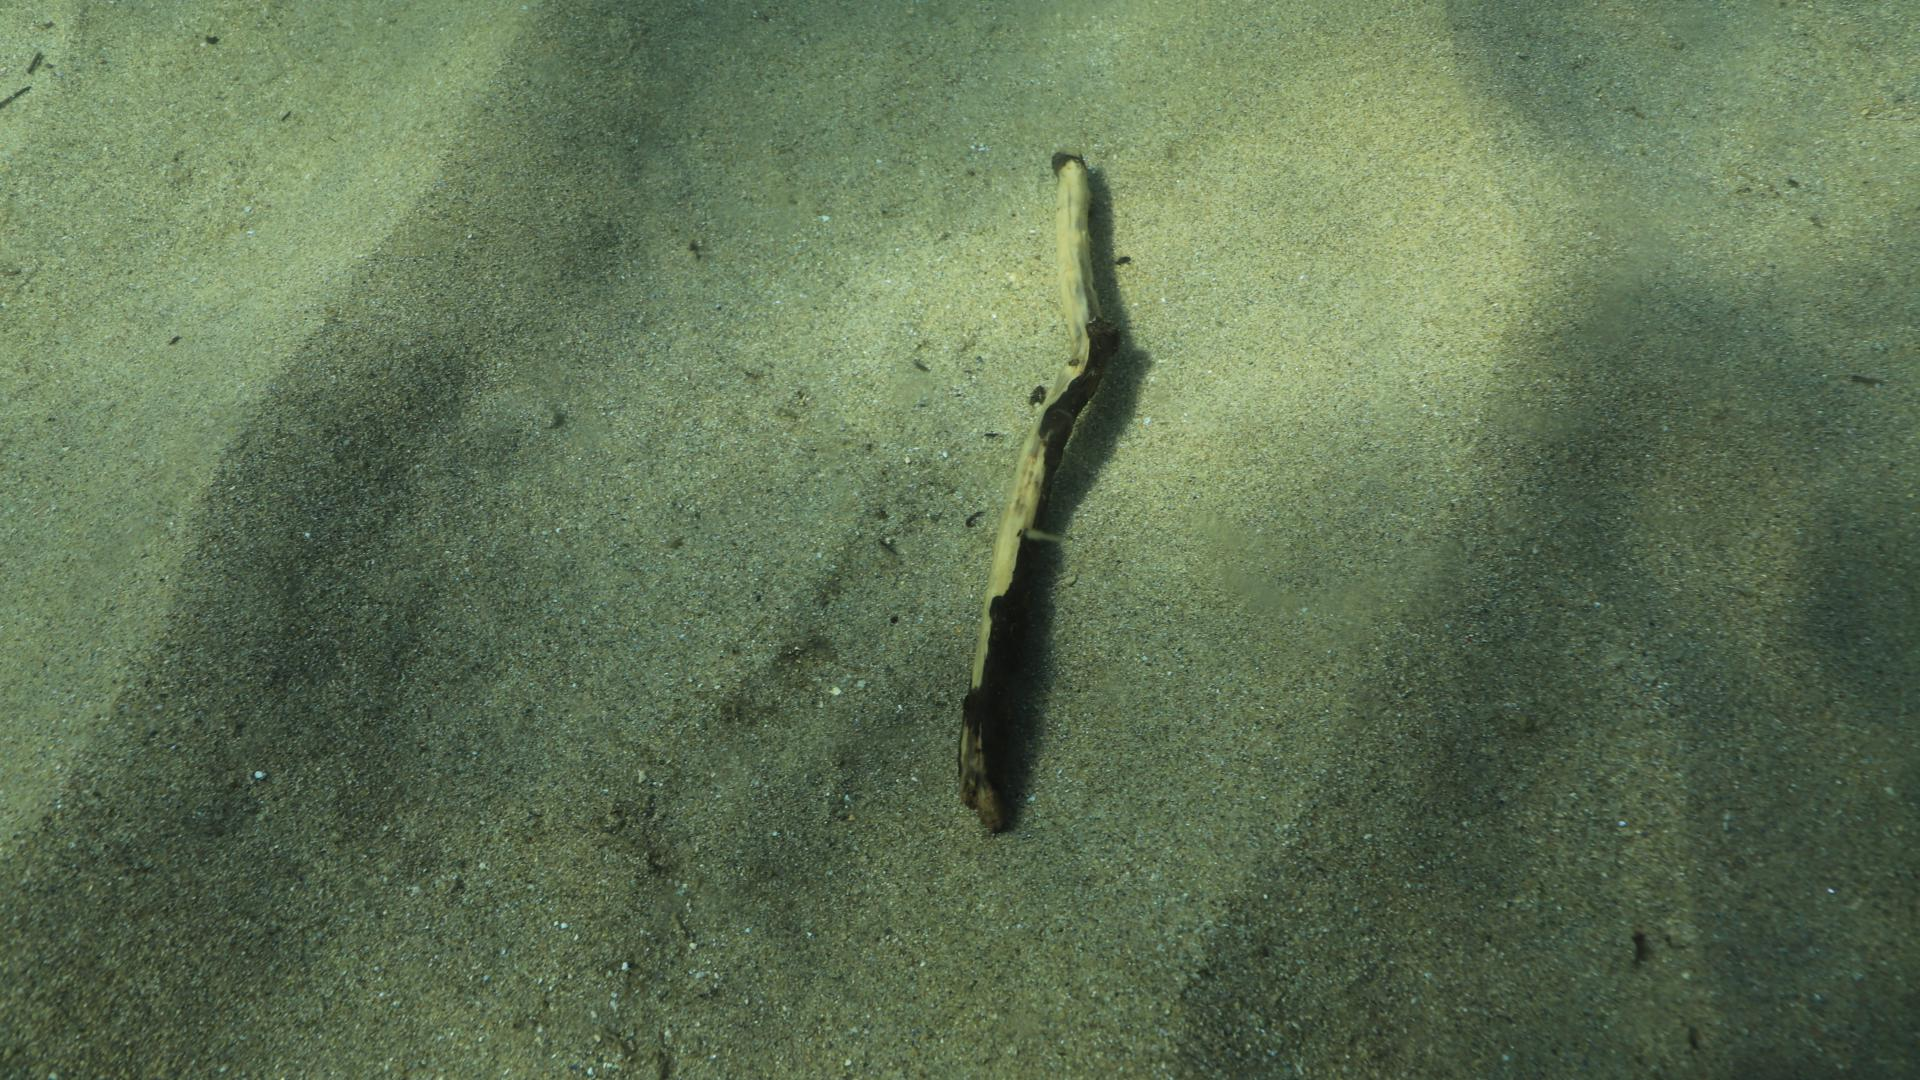wood: (953, 146, 1116, 833)
